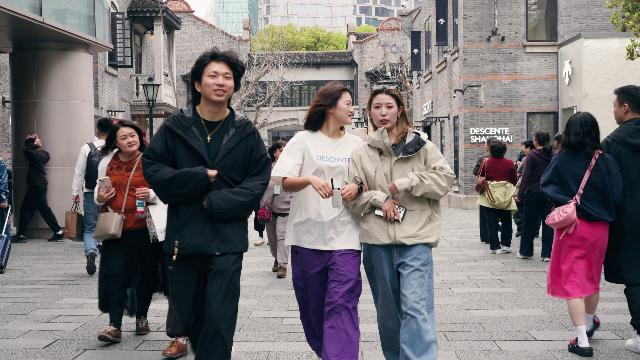person: (141, 46, 272, 360), (342, 84, 457, 360), (271, 80, 369, 360), (543, 92, 616, 360), (95, 119, 168, 343), (601, 85, 640, 354), (71, 117, 114, 275), (11, 134, 64, 243), (514, 129, 556, 262), (474, 139, 518, 254), (473, 137, 496, 244), (515, 139, 534, 238)
